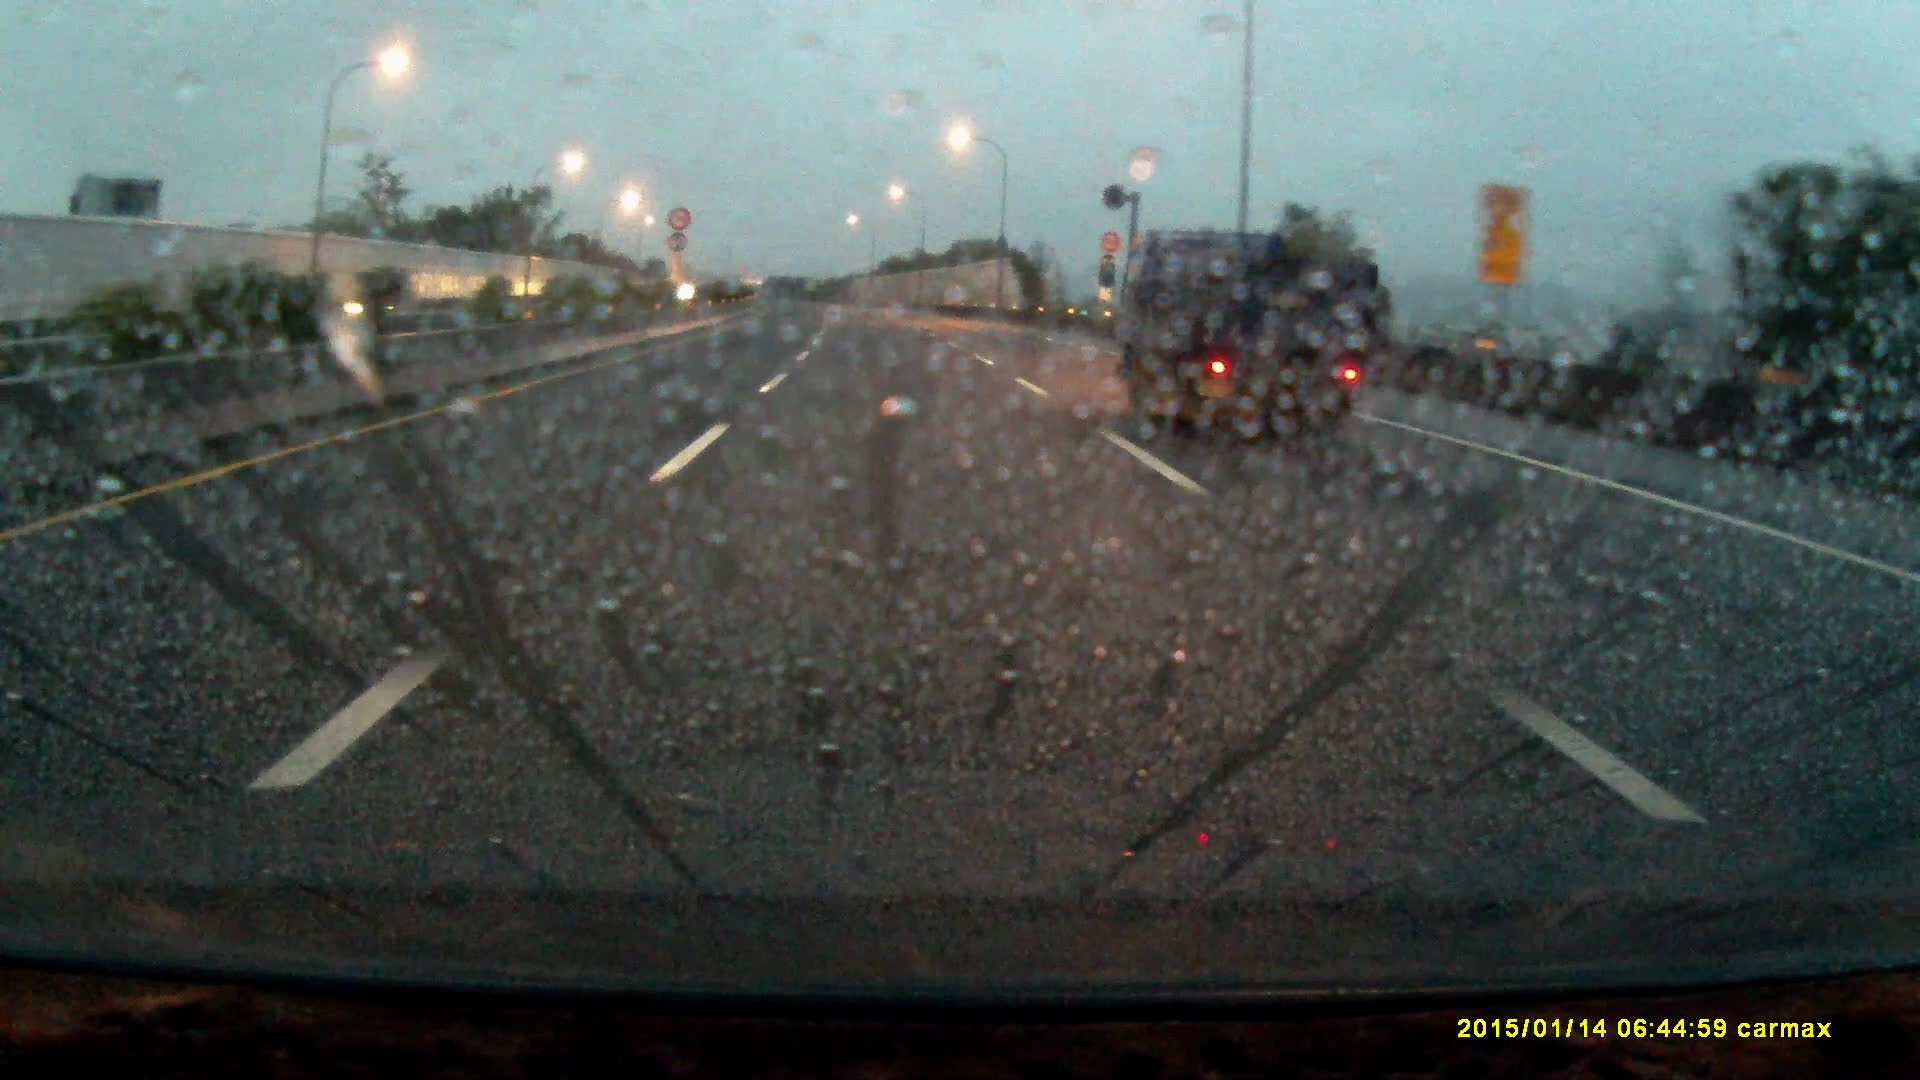vehicle: (1120, 233, 1373, 464), (336, 291, 429, 332)
